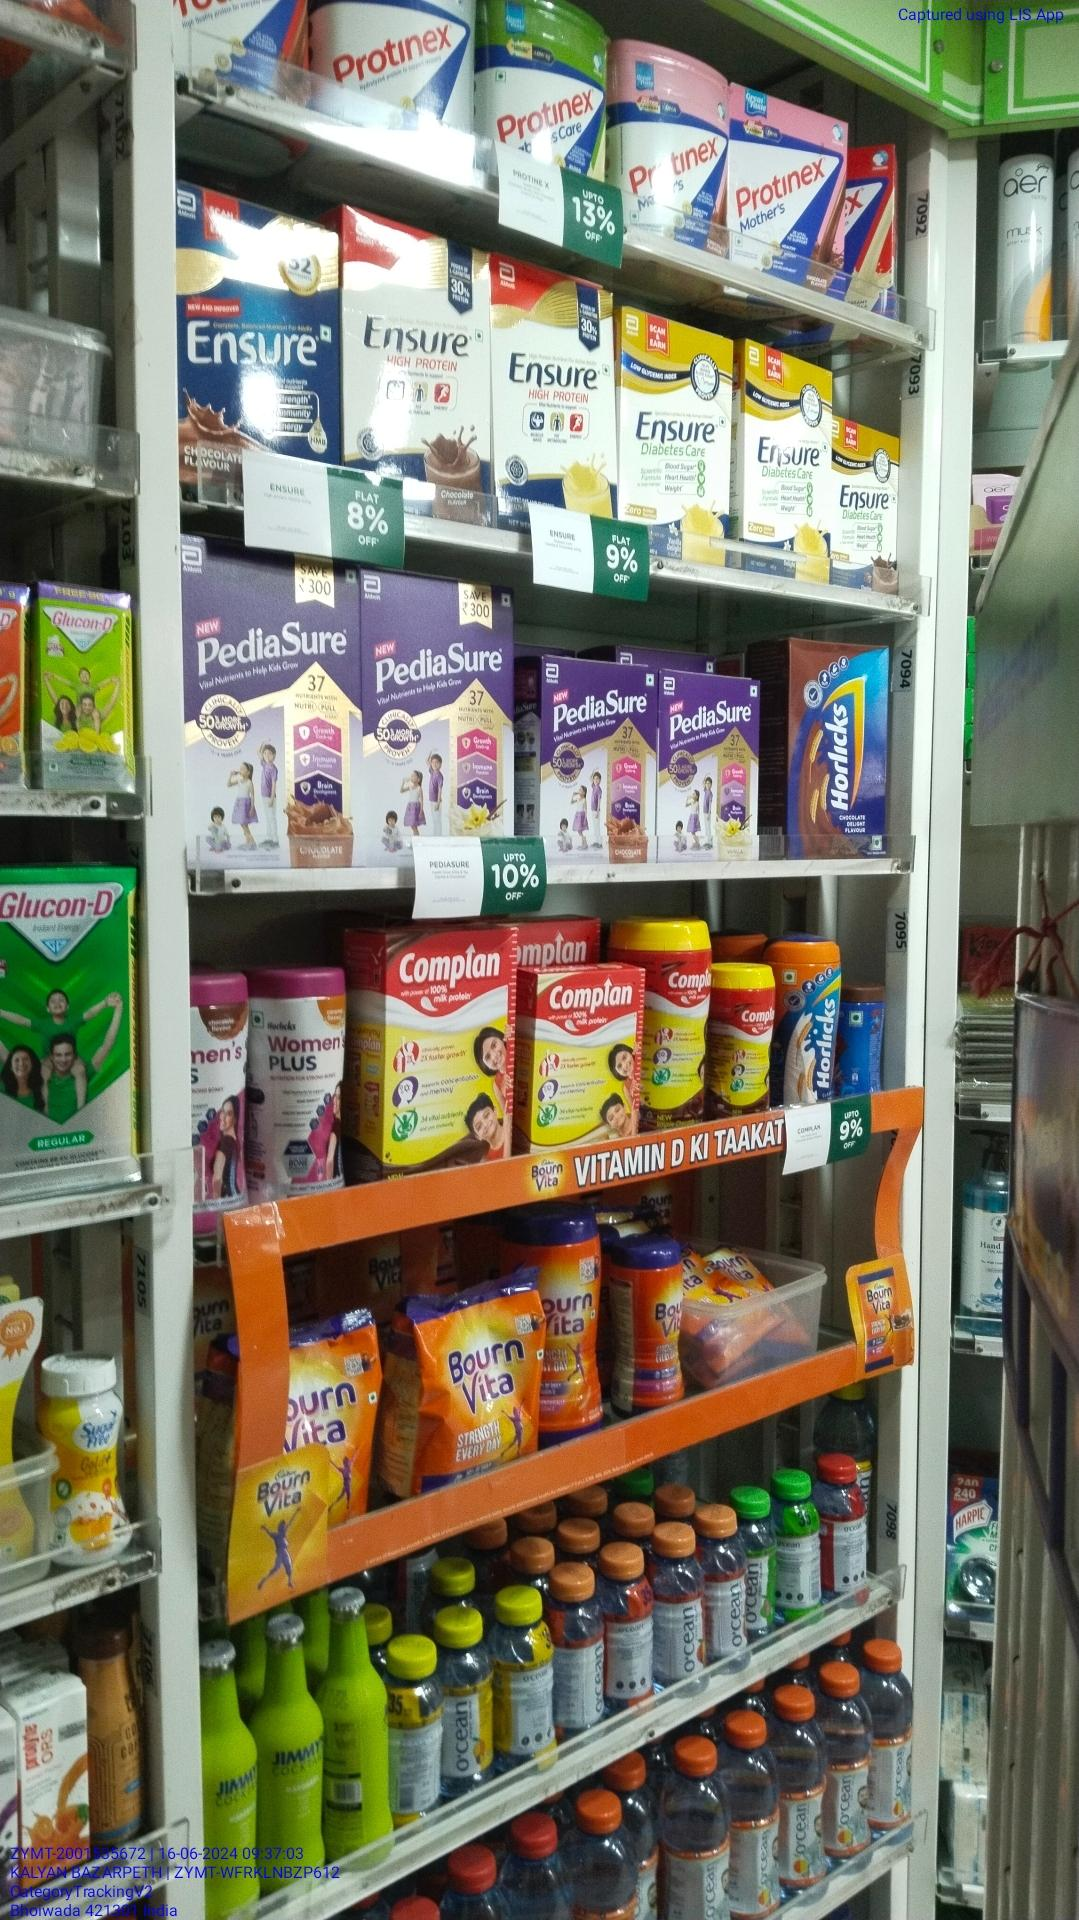COMPLAN_CHOCOLATE_200_GMS_JAR: (719, 968, 772, 1116)
COMPLAN_CHOCOLATE_500_GMS_JAR: (648, 920, 715, 1126)
COMPLAN_KESAR_BADAM_200_GMS_PACK: (533, 969, 637, 1147)
